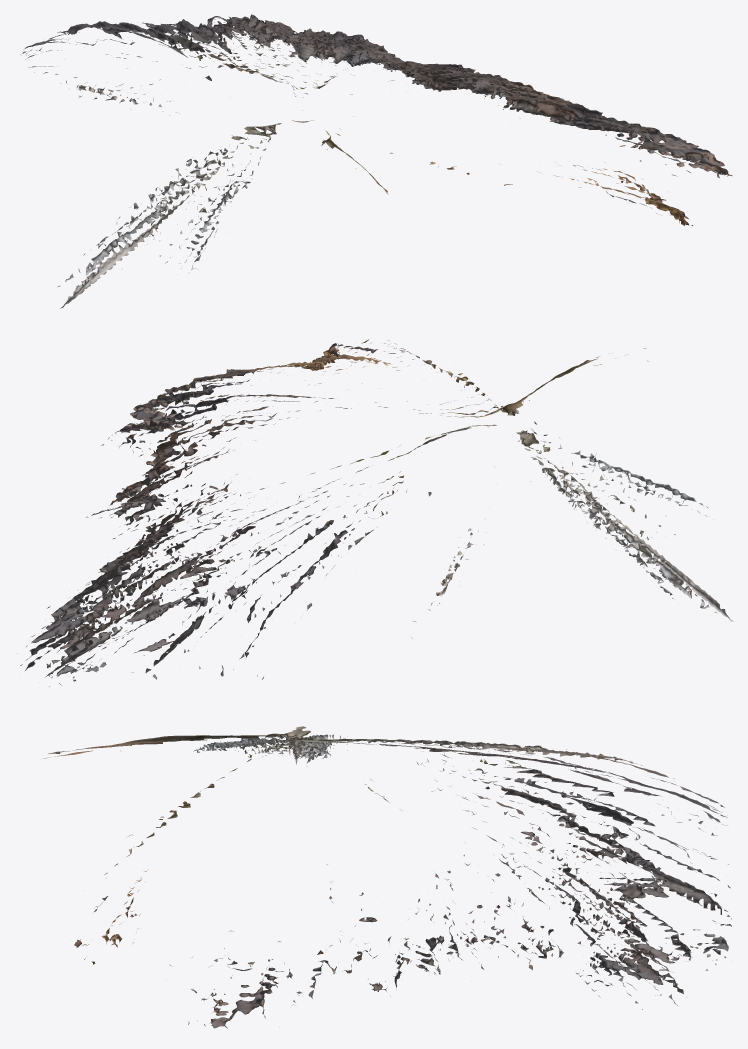
Rendered from world-1770576782031.glb.
3 renders of one model, top to bottom at view 1: azimuth 30°, elevation 25°; view 2: azimuth 150°, elevation 25°; view 3: azimuth 270°, elevation 25°, orthographic. The views are drawn at different scales.
Visible parts, largest first — view 1: world; view 2: world; view 3: world.
Boxes of the visible parts, <box> form: world: <box>20,14,732,308</box>; world: <box>17,339,733,686</box>; world: <box>43,726,731,1028</box>.
Size of the model in its own units: 177 by 44 by 188.
